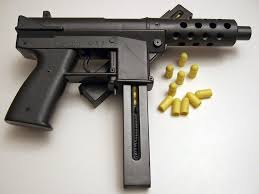gun: (1, 2, 252, 189)
